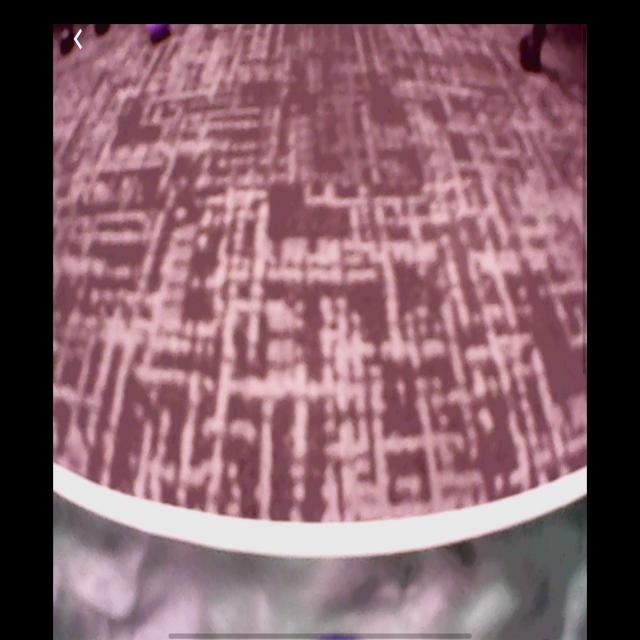ball: (147, 24, 170, 42)
